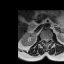CCS_normal: (46, 37, 47, 43)
LFS_severe_stenosis: (49, 37, 50, 41)
LLS_normal: (47, 37, 49, 42)
RFS_stenosis: (42, 37, 44, 41)
RLS_normal: (44, 37, 46, 42)
